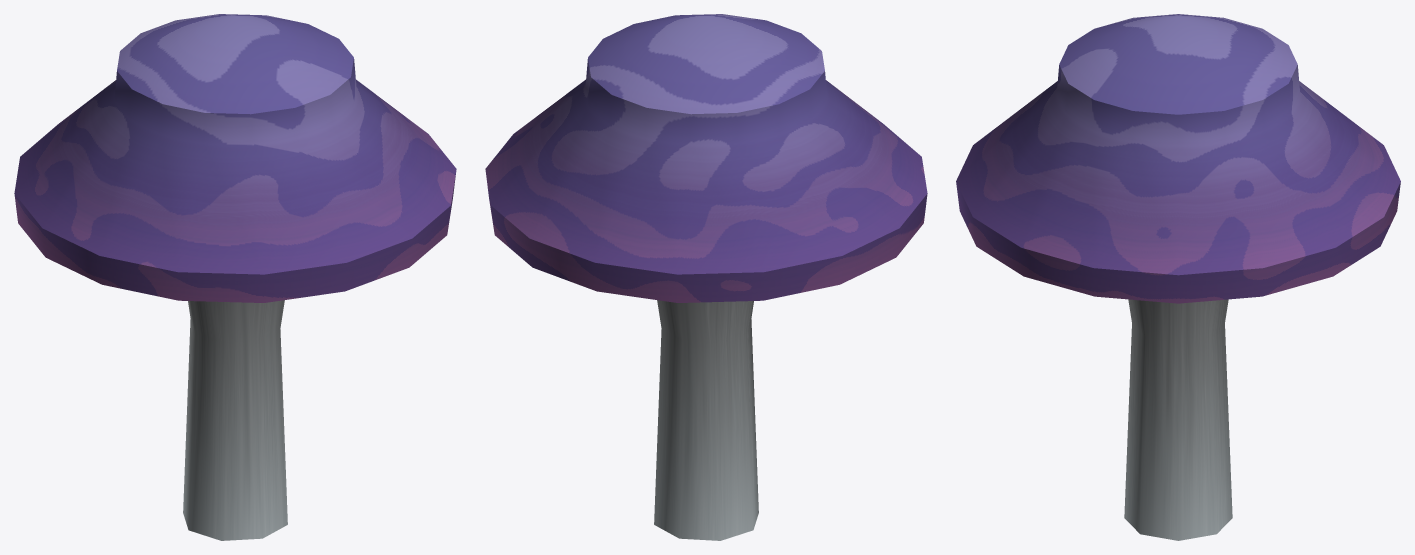
The model's file is VEG0110008.fbx.
3 renders of one model, left to right at view 1: azimuth 30°, elevation 25°; view 2: azimuth 150°, elevation 25°; view 3: azimuth 270°, elevation 25°, orthographic.
Parts seen in each view (by area): view 1: smVEG0110008; view 2: smVEG0110008; view 3: smVEG0110008.
Part boxes in pixels (x1,y1,x2,y2): smVEG0110008: [14, 14, 456, 540]; smVEG0110008: [485, 14, 927, 540]; smVEG0110008: [956, 14, 1400, 540].
Size of the model in its own units: 30.61 by 38.04 by 30.61.
1 material, 1 textured.
